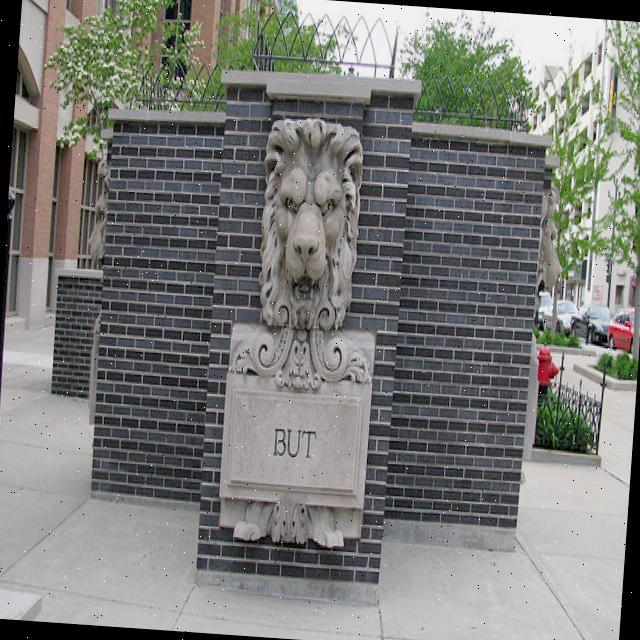fire_hydrant: (534, 340, 560, 384)
